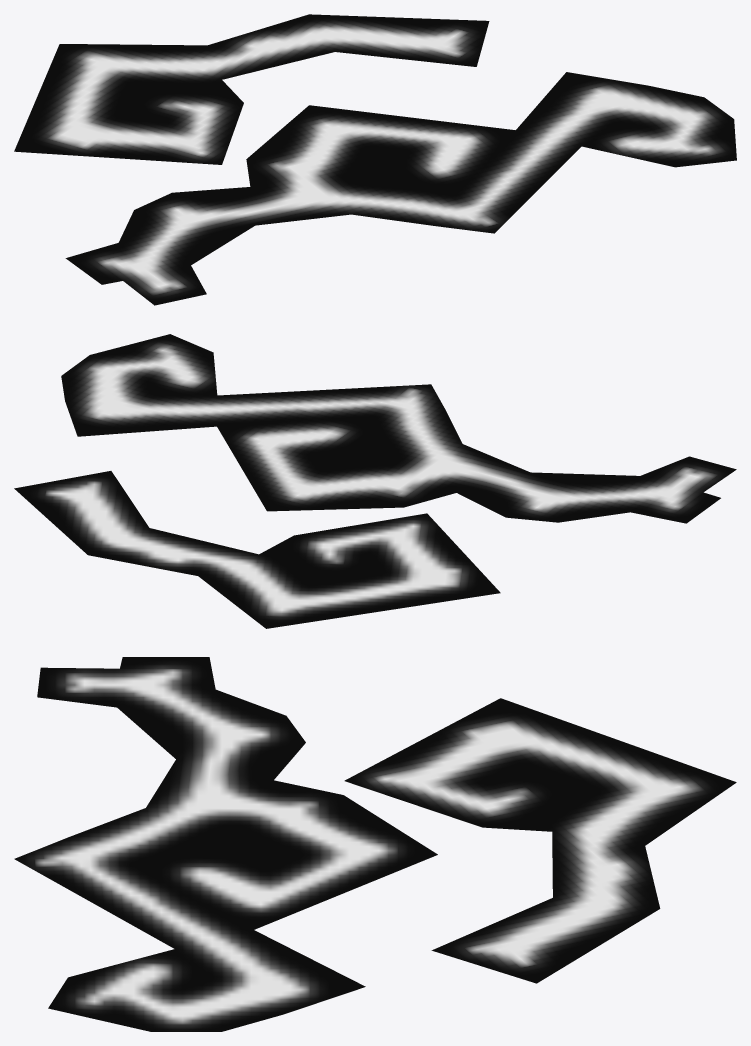
The picture shows the model from 3 angles, top to bottom: view 1: azimuth 30°, elevation 25°; view 2: azimuth 150°, elevation 25°; view 3: azimuth 270°, elevation 25°; orthographic projection. The views are drawn at different scales.
Parts seen in each view (by area): view 1: Br_s; view 2: Br_s; view 3: Br_s.
Part boxes in pixels (bbox=[...]): Br_s: bbox=[14, 14, 736, 305]; Br_s: bbox=[14, 334, 736, 628]; Br_s: bbox=[14, 657, 736, 1031].
Size of the model in its own units: 424 by 1.19e-05 by 346.
